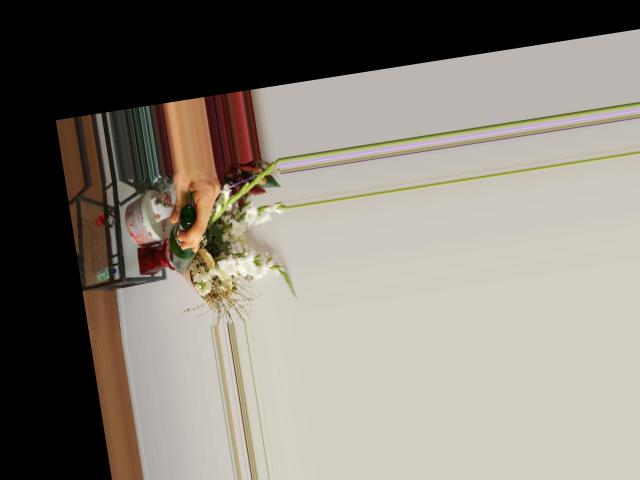beer: (162, 203, 204, 272)
